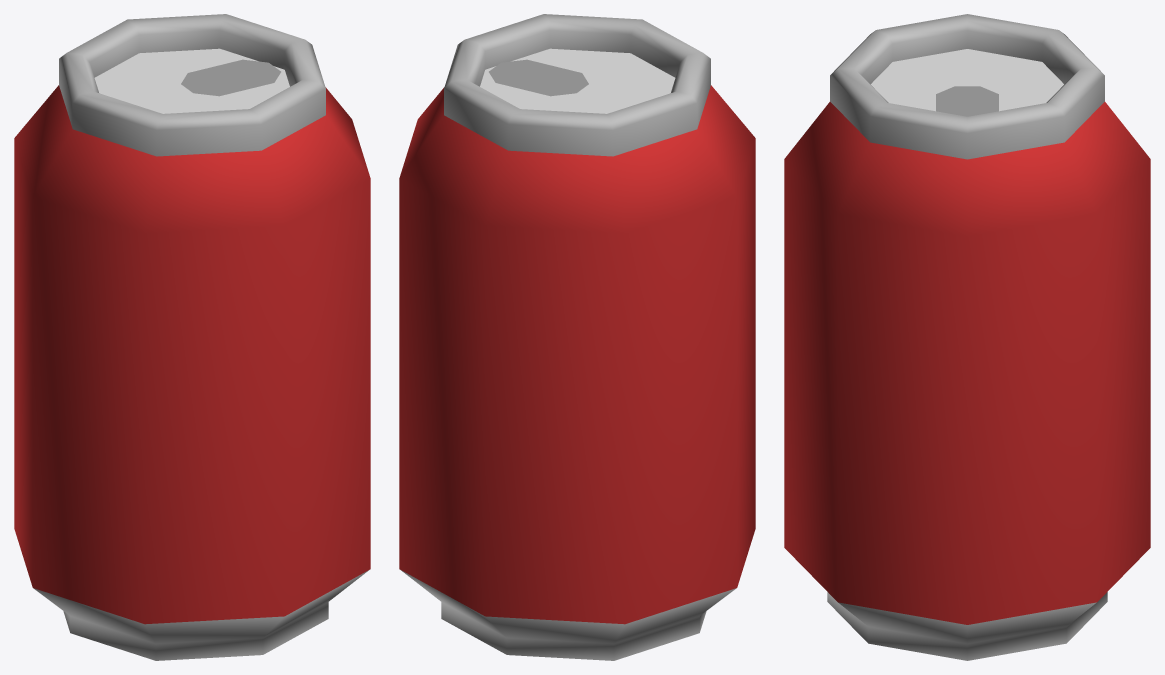
Rendered from prop_074.fbx.
The picture shows the model from 3 angles, left to right: view 1: azimuth 30°, elevation 25°; view 2: azimuth 150°, elevation 25°; view 3: azimuth 270°, elevation 25°; orthographic projection.
Parts seen in each view (by area): view 1: prop_074; view 2: prop_074; view 3: prop_074.
Boxes of the visible parts, x1,y1,x2,y2 form: prop_074: (14,14,370,660); prop_074: (399,14,755,660); prop_074: (784,14,1150,660).
Bounding box in the file's own units: 11.49 × 11.49 × 18.43.
